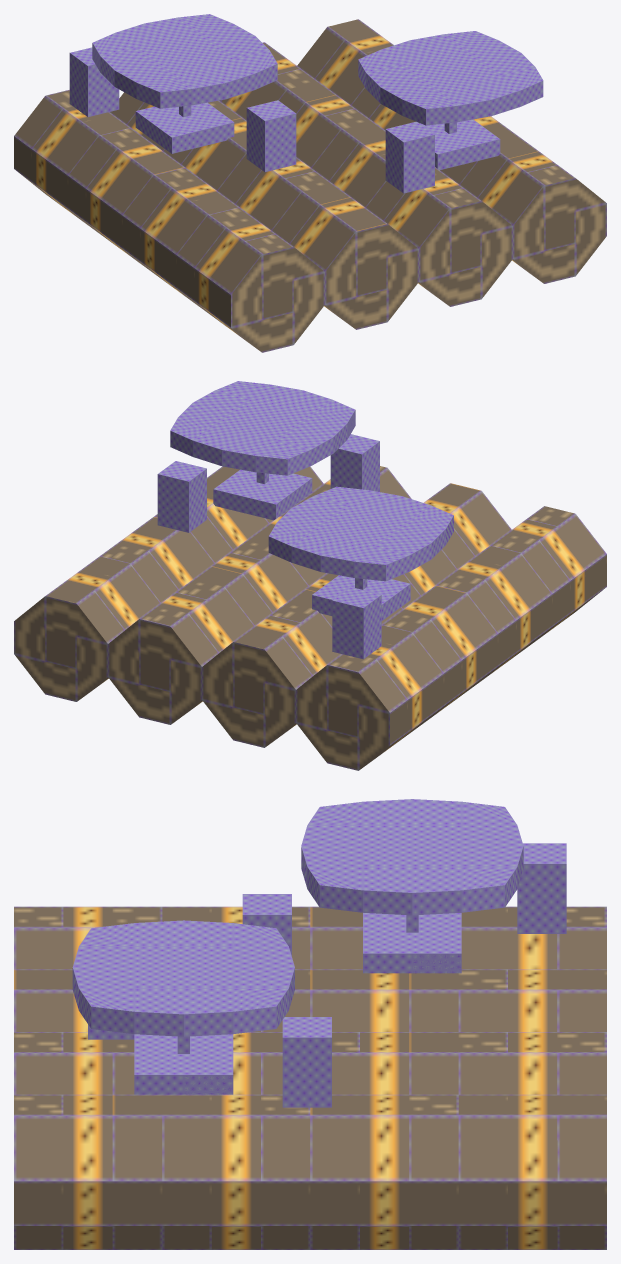
Rendered from Larder_FBX.fbx.
The picture shows the model from 3 angles, top to bottom: view 1: azimuth 30°, elevation 25°; view 2: azimuth 150°, elevation 25°; view 3: azimuth 270°, elevation 25°; orthographic projection. The views are drawn at different scales.
Parts seen in each view (by area): view 1: Larder; view 2: Larder; view 3: Larder.
Boxes of the visible parts, left/top/right/bottom form: Larder: left=14, top=14, right=606, bottom=352; Larder: left=14, top=381, right=606, bottom=770; Larder: left=14, top=799, right=606, bottom=1249.
Size of the model in its own units: 600 by 269 by 600.
